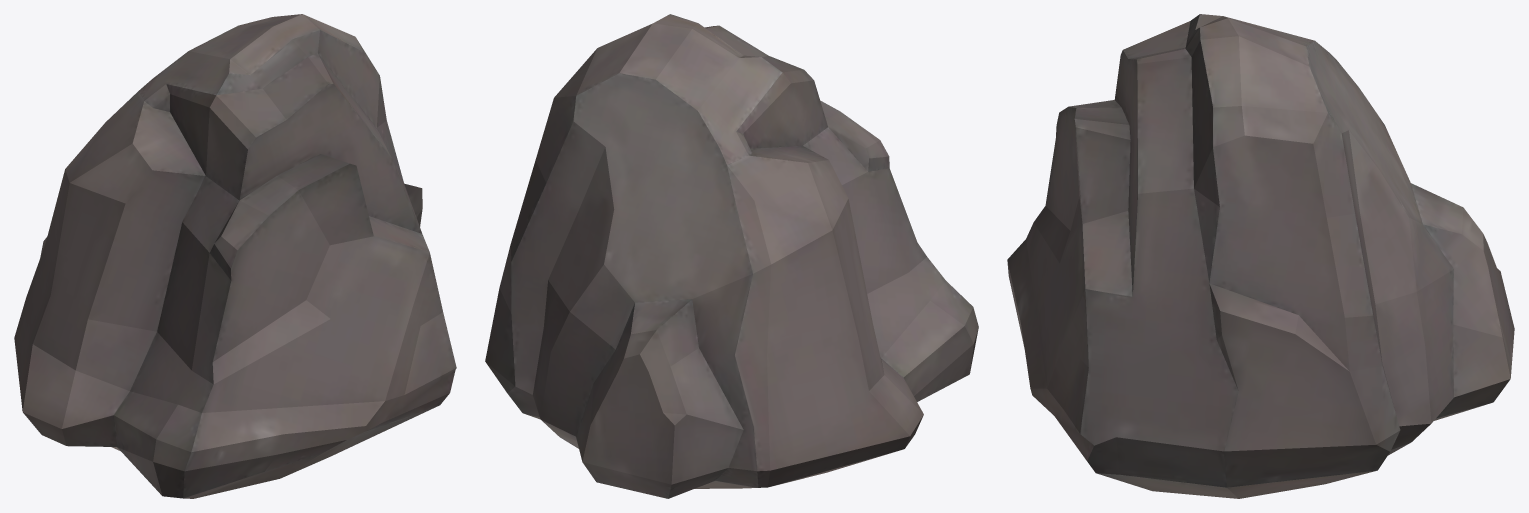
The picture shows the model from 3 angles, left to right: view 1: azimuth 30°, elevation 25°; view 2: azimuth 150°, elevation 25°; view 3: azimuth 270°, elevation 25°; orthographic projection. The views are drawn at different scales.
Parts seen in each view (by area): view 1: body0_model0_lod0_mesh0; view 2: body0_model0_lod0_mesh0; view 3: body0_model0_lod0_mesh0.
Part boxes in pixels (bbox=[...]): body0_model0_lod0_mesh0: bbox=[14, 14, 456, 498]; body0_model0_lod0_mesh0: bbox=[485, 14, 978, 498]; body0_model0_lod0_mesh0: bbox=[1007, 14, 1514, 498].
Bounding box in the file's own units: 218 × 209 × 223.
Materials: 1 (1 with a texture image).
